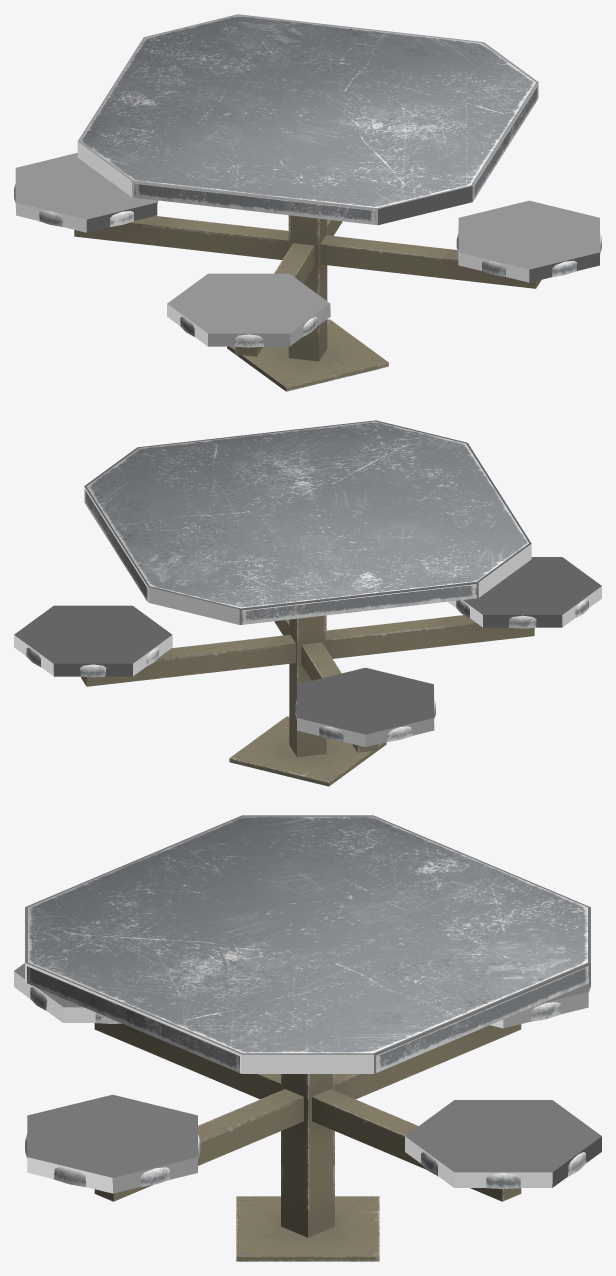
File: SM_Table_01.fbx
3 views of the same model, one above another, from view 1: azimuth 30°, elevation 25°; view 2: azimuth 150°, elevation 25°; view 3: azimuth 270°, elevation 25° (orthographic). The views are drawn at different scales.
Parts seen in each view (by area): view 1: SM_Table_01, SM_Table_01_ConvexHulls; view 2: SM_Table_01, SM_Table_01_ConvexHulls; view 3: SM_Table_01, SM_Table_01_ConvexHulls.
Boxes of the visible parts, x1,y1,x2,y2 form: SM_Table_01: (14,15,601,391); SM_Table_01_ConvexHulls: (15,14,599,346); SM_Table_01: (26,421,588,786); SM_Table_01_ConvexHulls: (14,420,601,747); SM_Table_01: (25,816,590,1261); SM_Table_01_ConvexHulls: (14,815,601,1193).
Bounding box in the file's own units: 148 × 148 × 82.18.
Materials: 2 (1 with a texture image).
